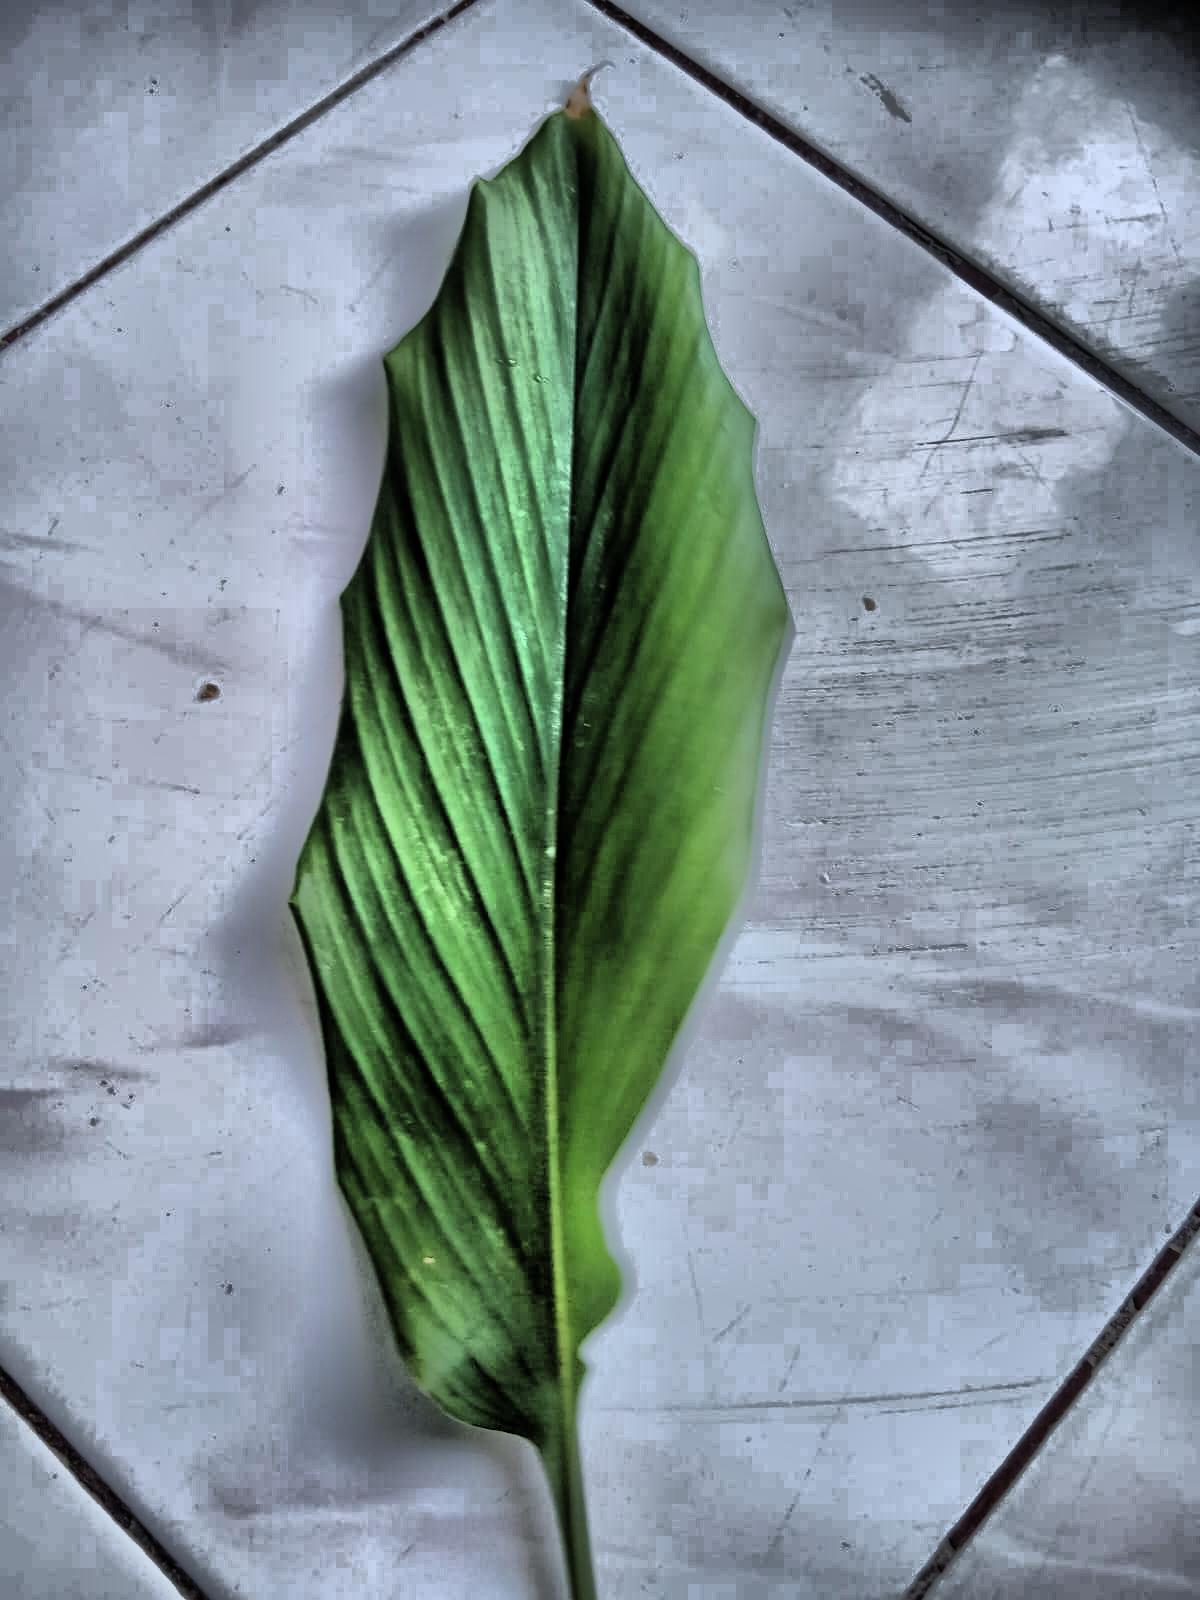daun kunyit: (291, 82, 787, 1599)
